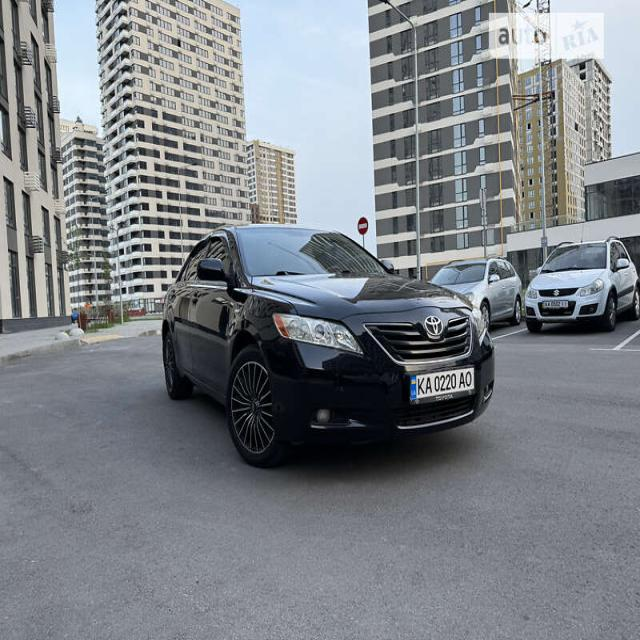plate: (406, 365, 481, 407)
